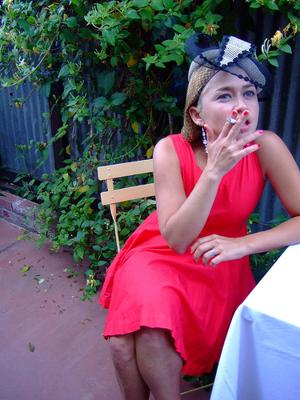person: (98, 39, 300, 400)
